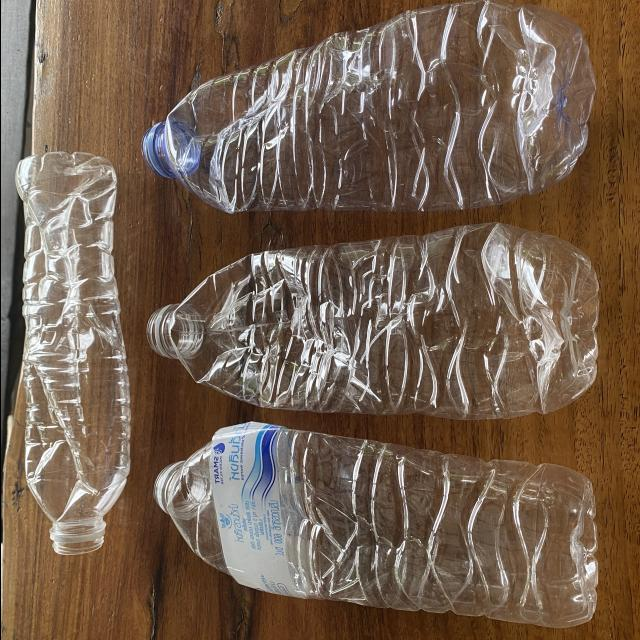plastik: (142, 0, 594, 212), (154, 422, 598, 627), (146, 223, 598, 419), (16, 153, 130, 554)
